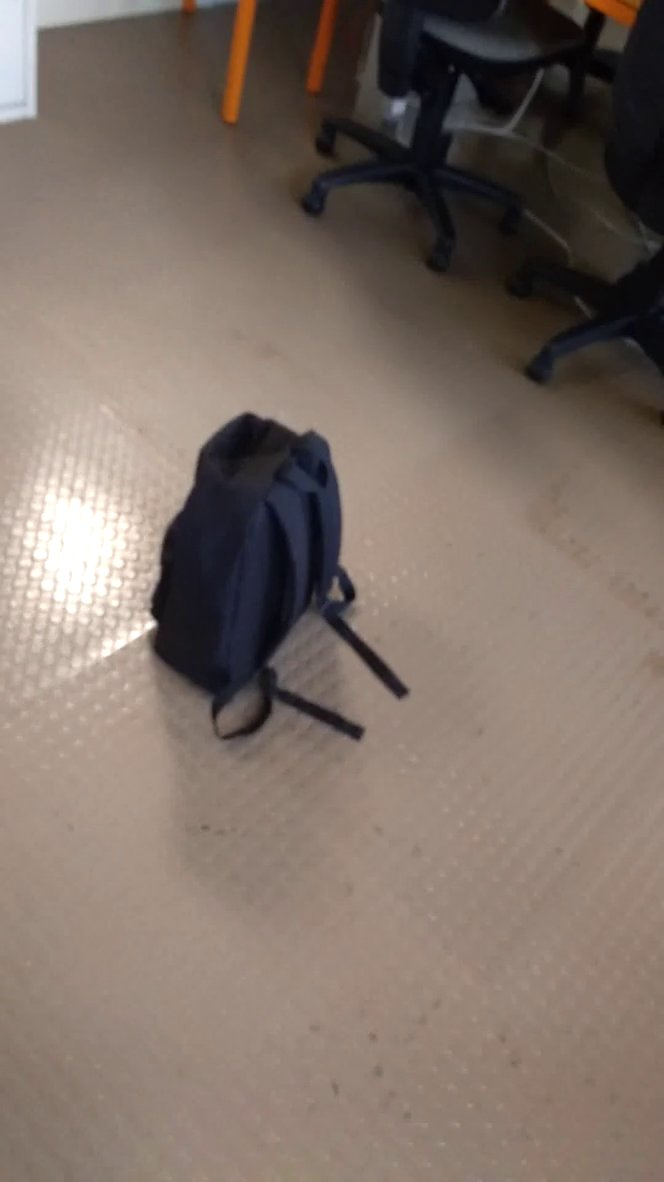bag: (142, 406, 423, 759)
